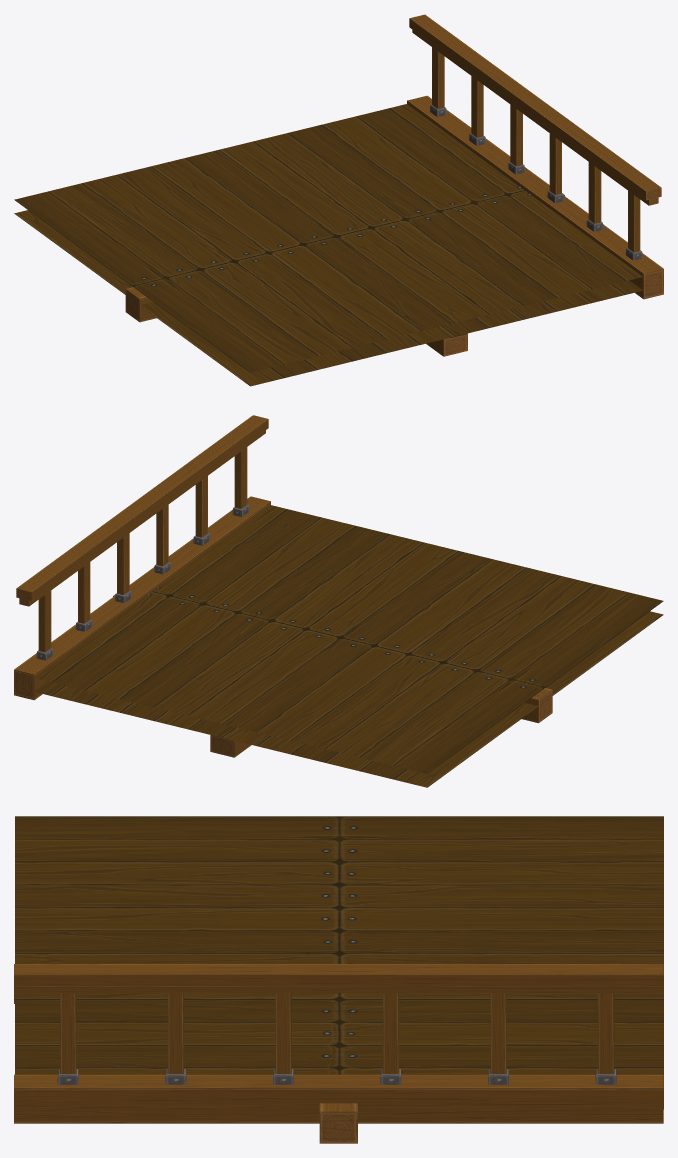
File: SM_Terrace_Floor_Front.fbx
The picture shows the model from 3 angles, top to bottom: view 1: azimuth 30°, elevation 25°; view 2: azimuth 150°, elevation 25°; view 3: azimuth 270°, elevation 25°; orthographic projection. The views are drawn at different scales.
Parts seen in each view (by area): view 1: SM_Terrace_Floor_Front; view 2: SM_Terrace_Floor_Front; view 3: SM_Terrace_Floor_Front.
Part boxes in pixels (x1,y1,x2,y2): SM_Terrace_Floor_Front: [14, 14, 663, 386]; SM_Terrace_Floor_Front: [14, 415, 663, 787]; SM_Terrace_Floor_Front: [14, 816, 663, 1143].
Bounding box in the file's own units: 5.2 × 1.35 × 5.01.
